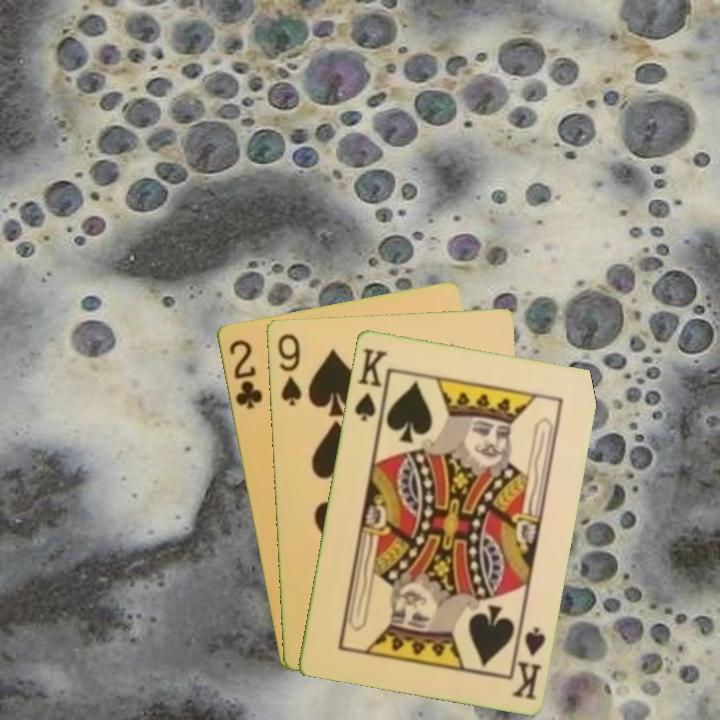2c: (225, 335, 265, 412)
9s: (274, 329, 304, 408)
Ks: (507, 618, 548, 702), (350, 344, 390, 426)
